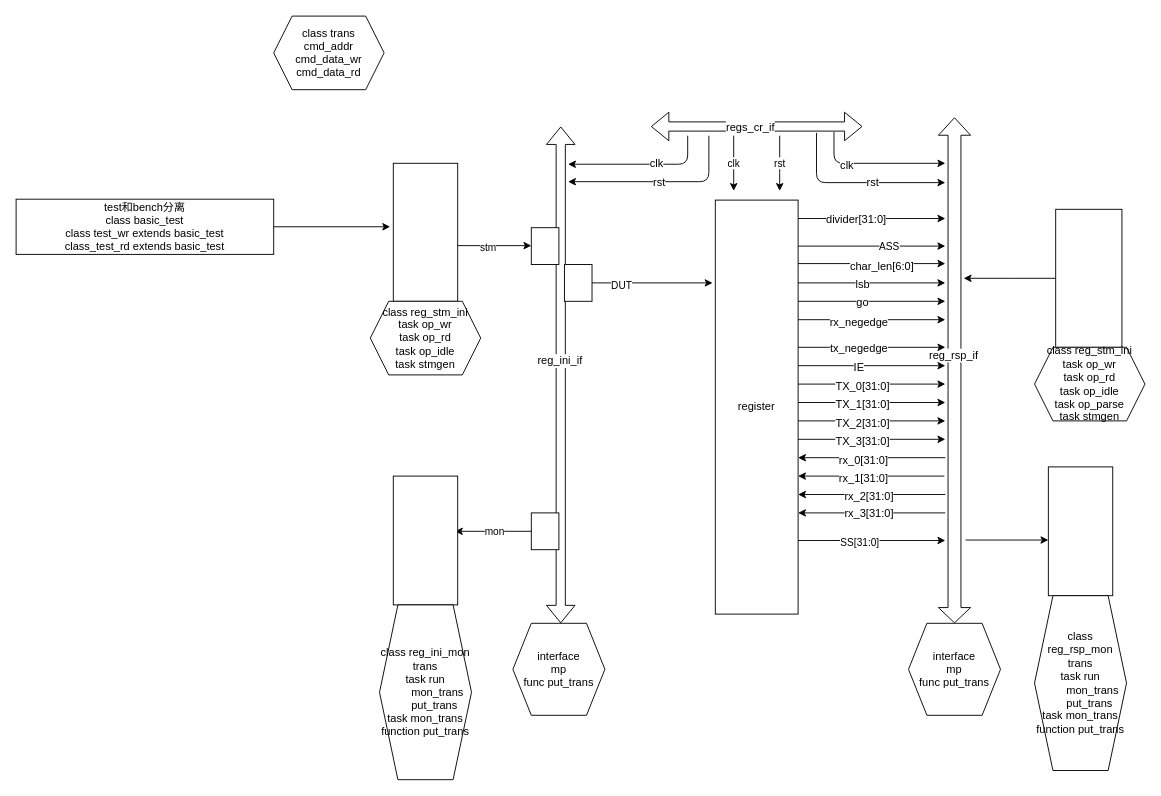
Some shapes in this 1161 by 796 pixel diagram are drawn without their labels. The centre of each missing label's shape, as x and y in pixels:
"reg_ini_mon" belongs at point 425,540.
"reg_rsp_ini" belongs at point 1088,277.
"reg_rsp_mon" belongs at point 1080,531.
"reg_stm_ini" belongs at point 425,231.
